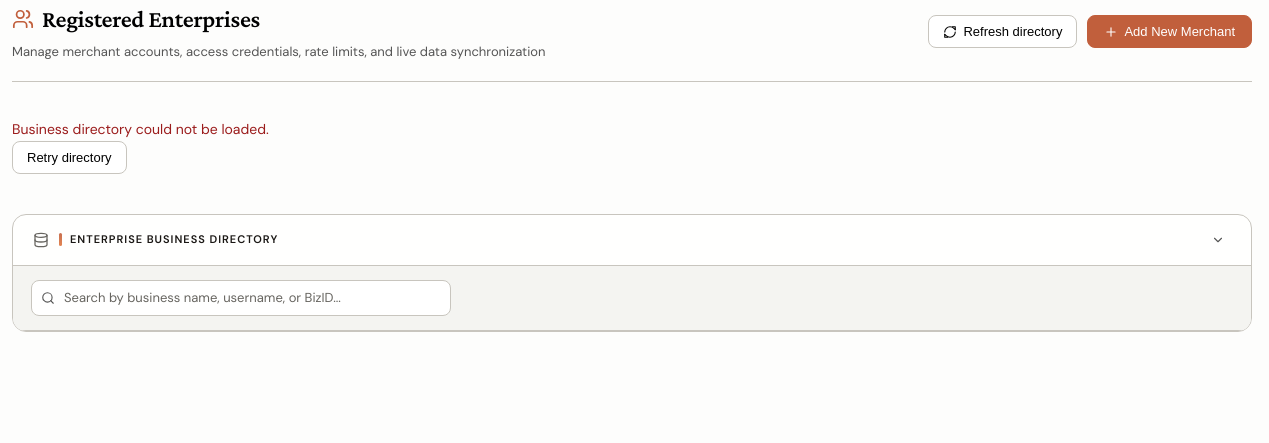
Admin directory load state › shows a retryable HTTP failure without inventing a zero or empty result
Expected: the message shows "could not be loaded", [12,120,269,138]
Click the button "Retry directory": (69, 157) [12,141,126,174]
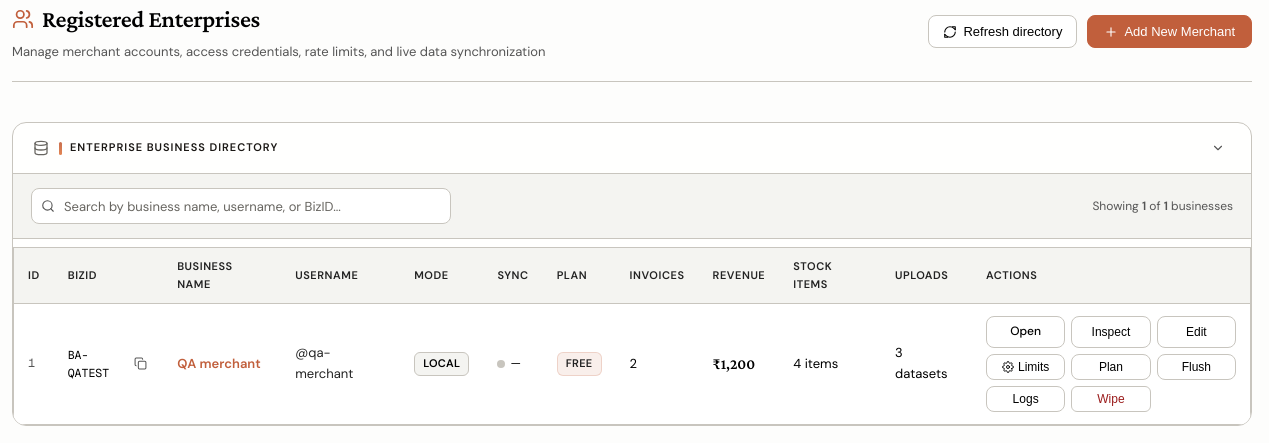
Now the link "QA merchant" is shown, box [177,355,261,372]
Now the message "Business directory could not be loaded. Retry directory" is gone
